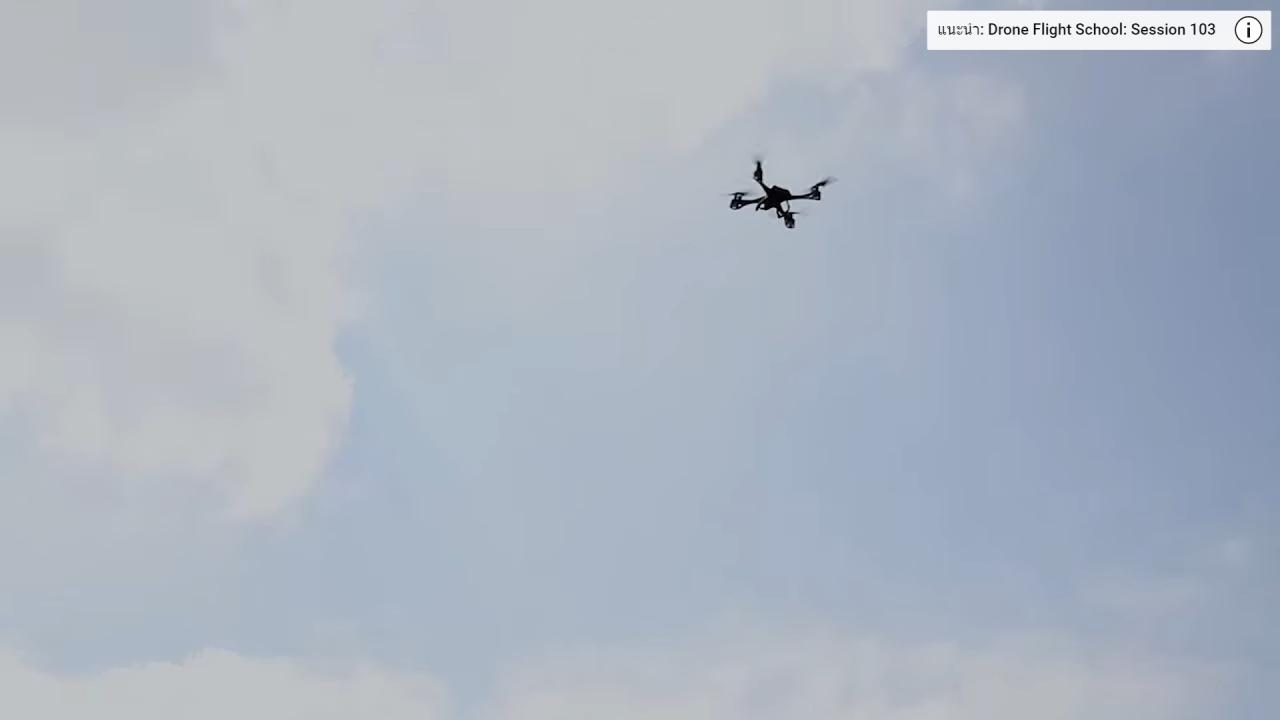Drone: (714, 142, 845, 237)
